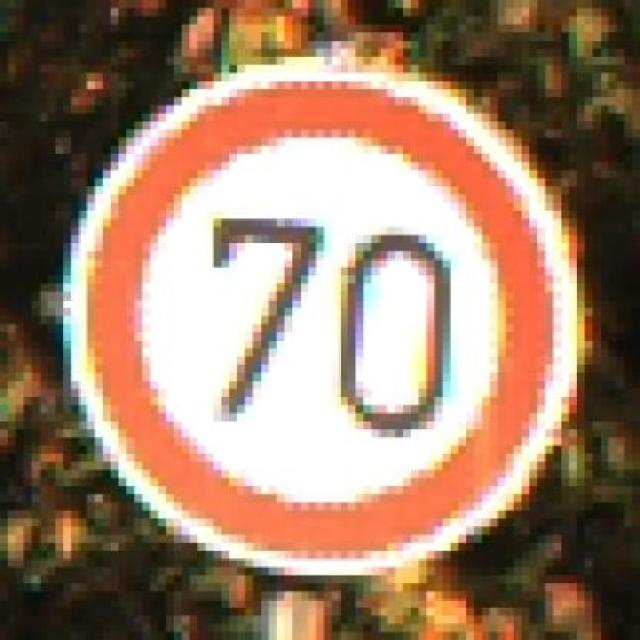forb_speed_over_70: (76, 72, 567, 560)
